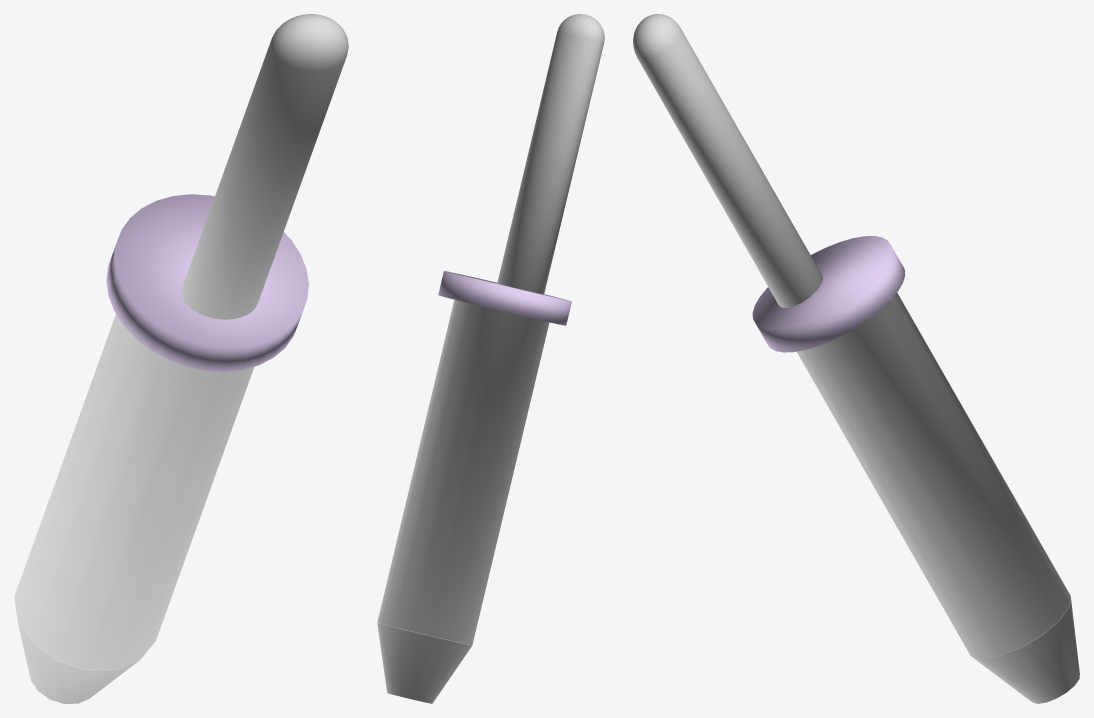
Rendered from HandPiece-3.glb.
3 renders of one model, left to right at view 1: azimuth 30°, elevation 25°; view 2: azimuth 150°, elevation 25°; view 3: azimuth 270°, elevation 25°, orthographic. The views are drawn at different scales.
Parts seen in each view (by area): view 1: Sphere.001; view 2: Sphere.001; view 3: Sphere.001.
Boxes of the visible parts, <box> form: Sphere.001: <box>14,14,348,703</box>; Sphere.001: <box>377,14,604,703</box>; Sphere.001: <box>633,14,1079,703</box>.
Size of the model in its own units: 31.5 by 151 by 89.79.
